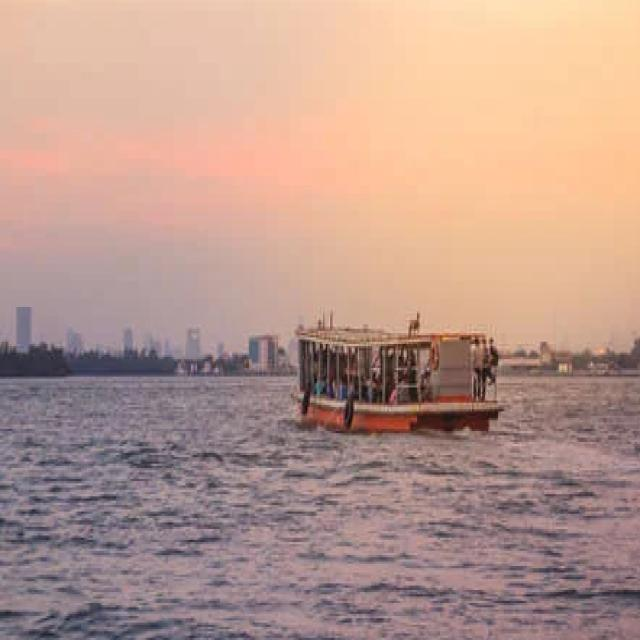houseboat: (292, 303, 512, 442)
